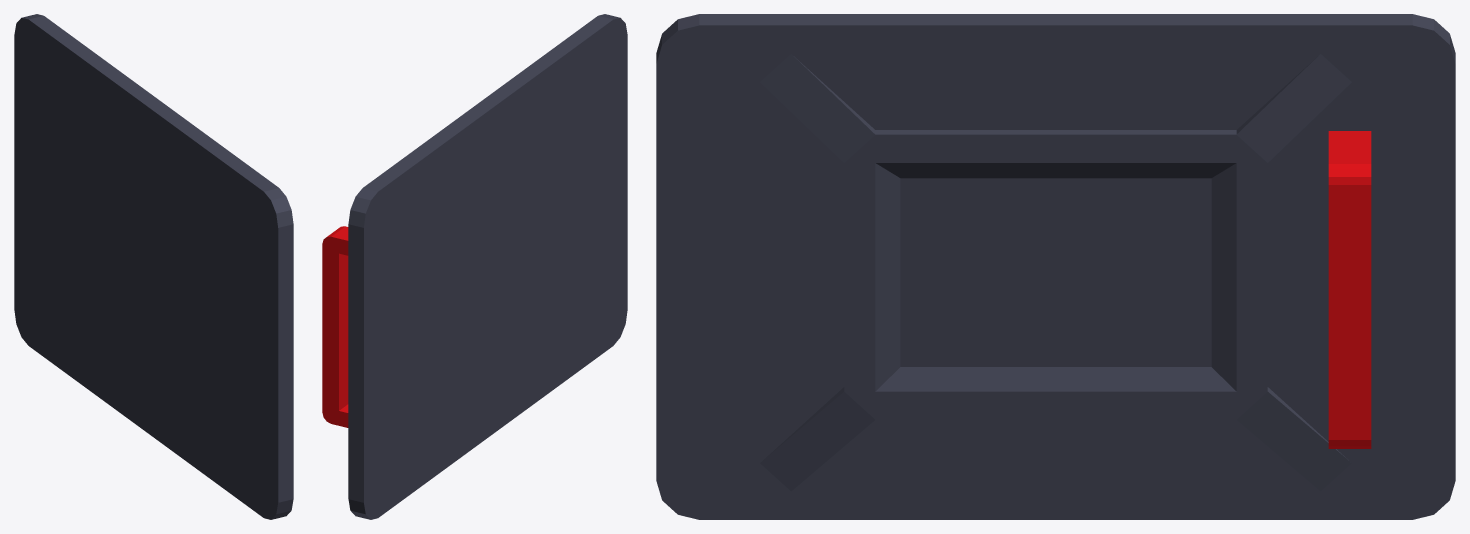
The model's file is PuertaCompartimentoPieza.fbx.
3 views of the same model, side by side, from view 1: azimuth 30°, elevation 25°; view 2: azimuth 150°, elevation 25°; view 3: azimuth 270°, elevation 25° (orthographic). The views are drawn at different scales.
Parts seen in each view (by area): view 1: Cube.001; view 2: Cube.001; view 3: Cube.001.
Part boxes in pixels (x1,y1,x2,y2): Cube.001: [14, 14, 293, 519]; Cube.001: [322, 14, 627, 519]; Cube.001: [656, 14, 1455, 519].
Bounding box in the file's own units: 39.02 × 176 × 257.
